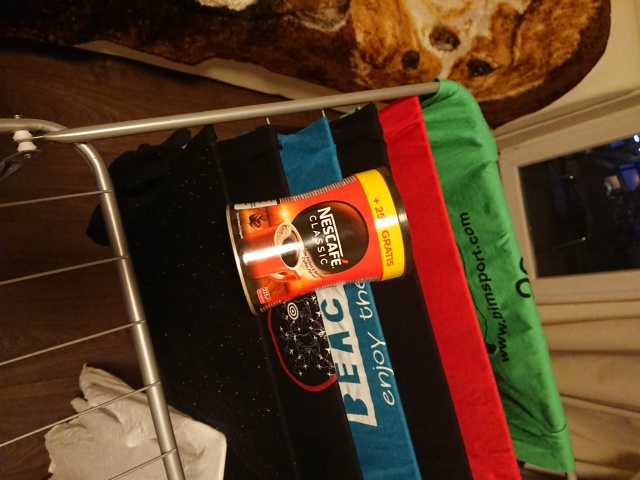Nescafe Classic 225g: (222, 162, 416, 319)
